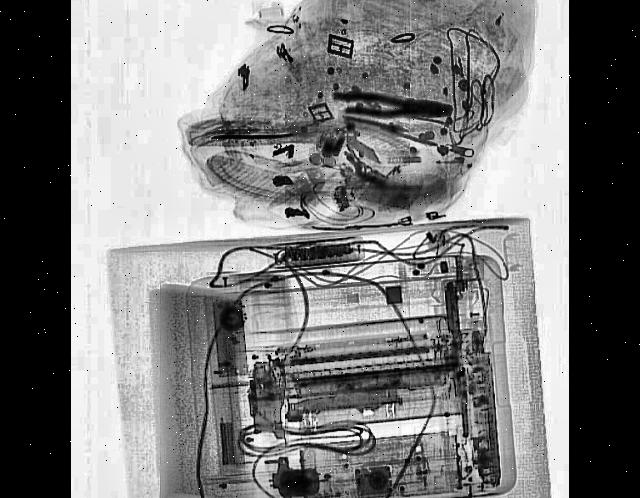Pliers: (333, 90, 452, 120)
